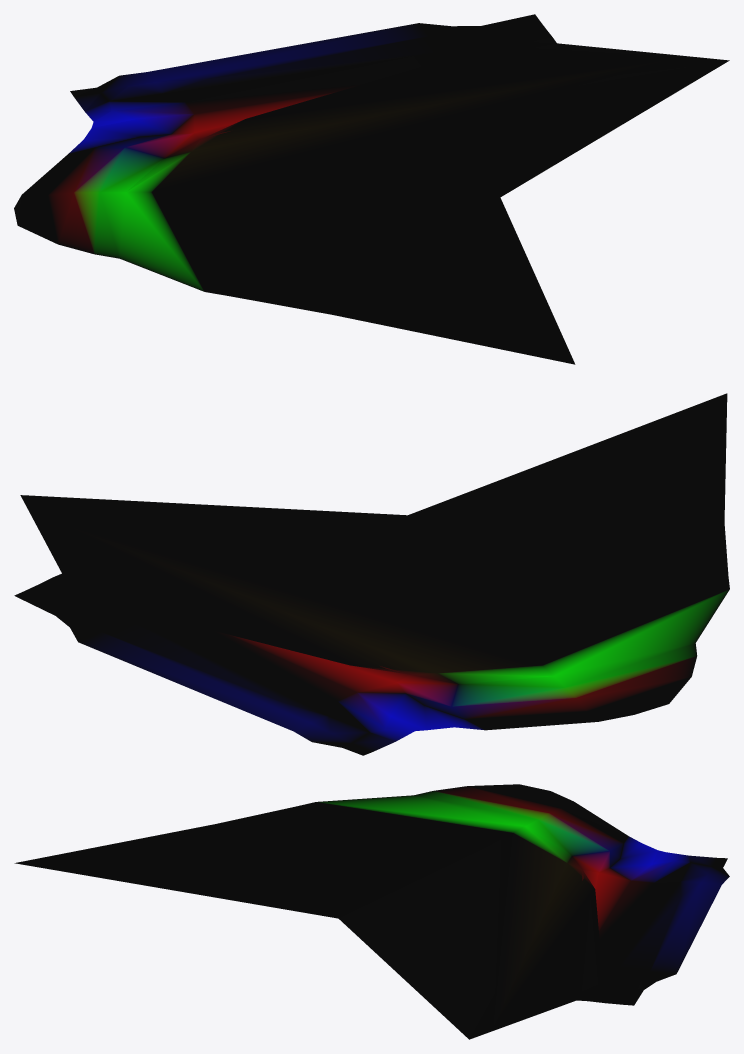
3 views of the same model, one above another, from view 1: azimuth 30°, elevation 25°; view 2: azimuth 150°, elevation 25°; view 3: azimuth 270°, elevation 25° (orthographic). The views are drawn at different scales.
Parts seen in each view (by area): view 1: Sprite__4_; view 2: Sprite__4_; view 3: Sprite__4_.
Part boxes in pixels (x1=…): Sprite__4_: x1=14, y1=14, x2=729, y2=364; Sprite__4_: x1=14, y1=393, x2=729, y2=755; Sprite__4_: x1=14, y1=784, x2=729, y2=1039.
Bounding box in the file's own units: 1631 × 72.31 × 1810.
